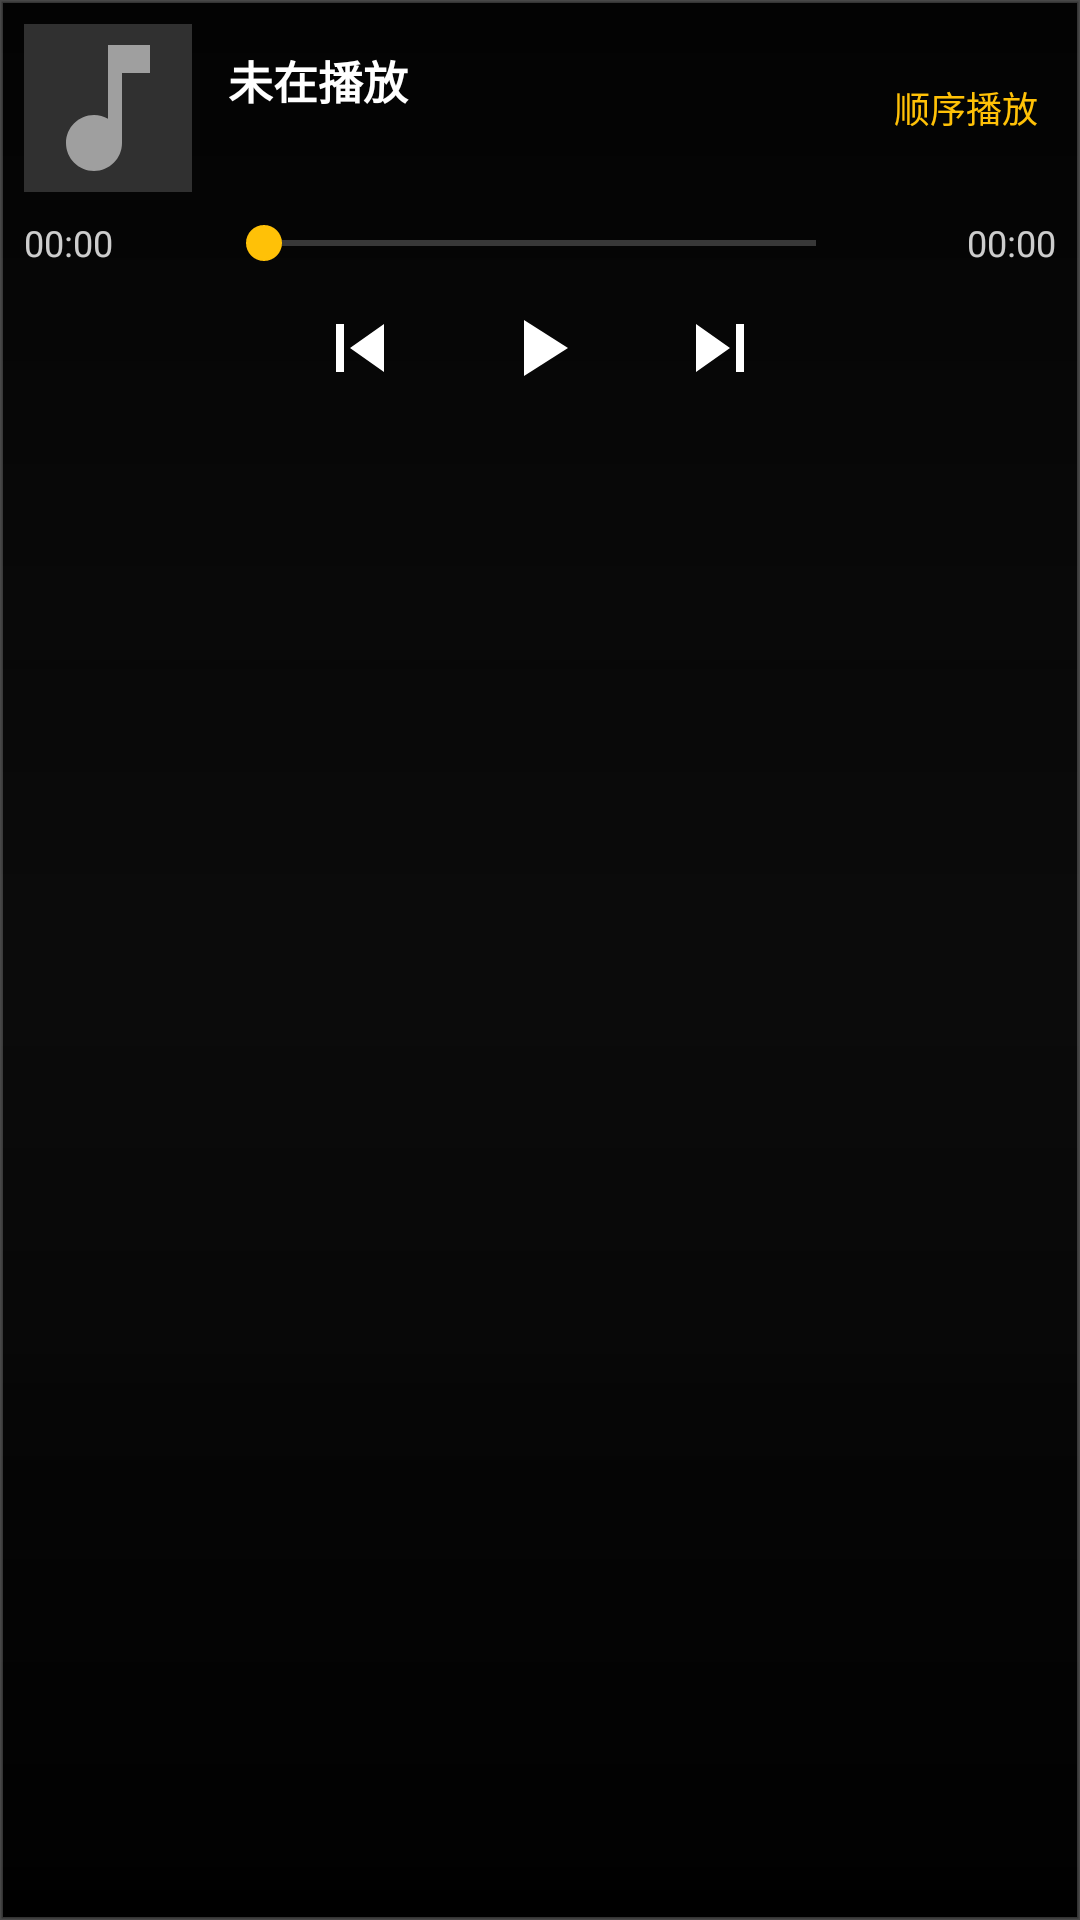

Named icons in this screenshot (1080 × 1920) and their bounding boxes, box=[x1, y1, x2, y2]:
上一首: box=[336, 324, 384, 372]
下一首: box=[696, 324, 744, 372]
专辑封面: box=[24, 24, 192, 192]
播放/暂停: box=[524, 320, 568, 376]
